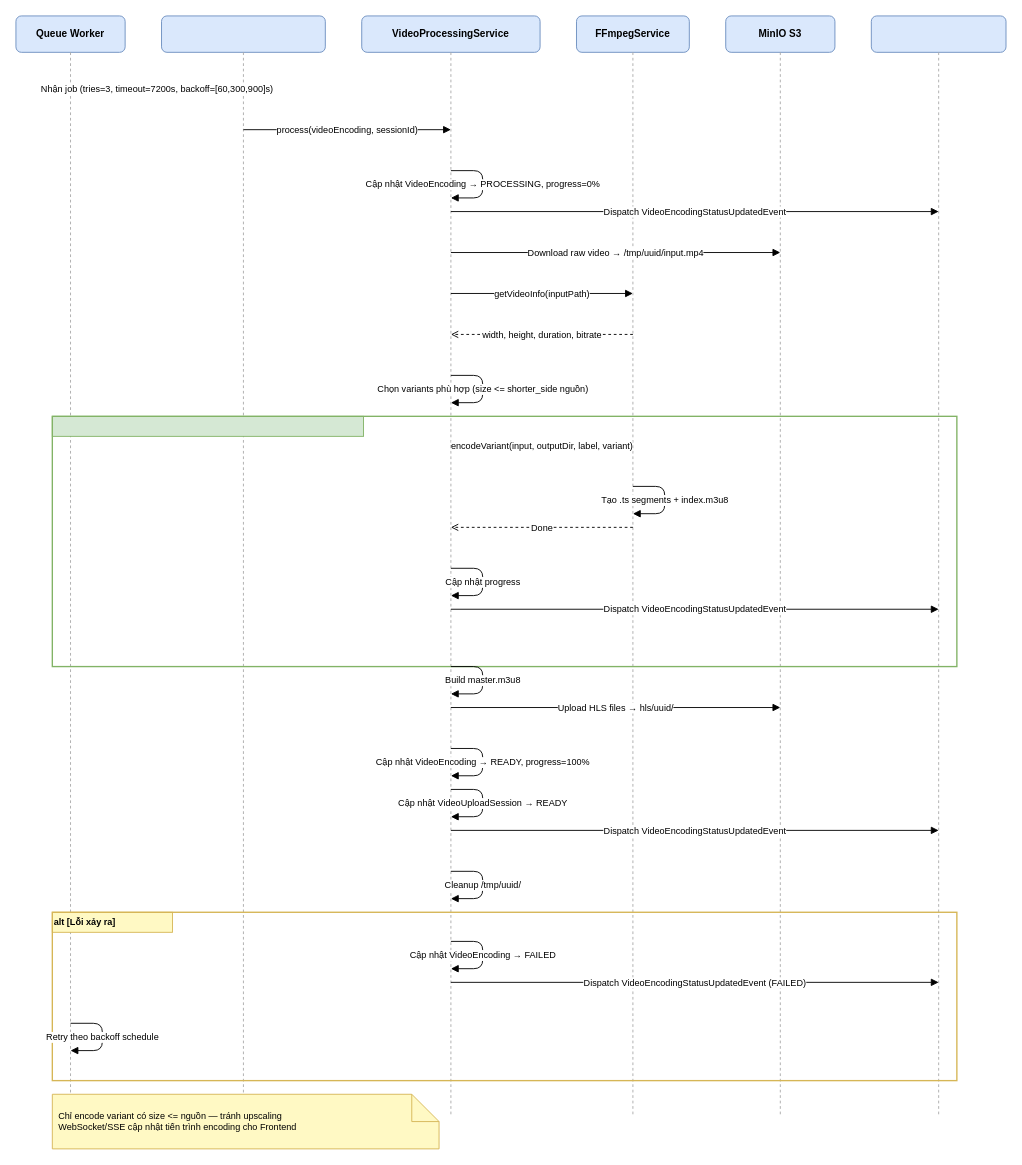
Some shapes in this 1022 by 1165 pixel diagram are drawn without their labels. The centre of each missing label's shape, as x and y in pixels:
Event Dispatcher: the point at 938,33
loop [Mỗi variant: 360p, 480p, 720p, 1080p...]: the point at 207,425
ProcessVideoToHlsJob: the point at 243,33
